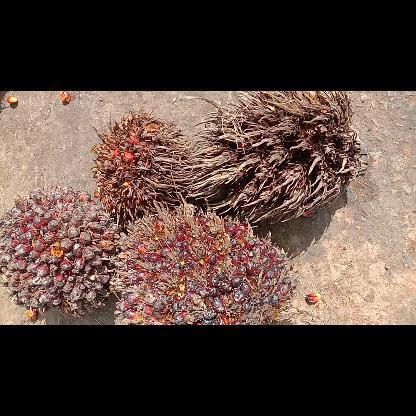Janjang kosong: (173, 92, 369, 226)
Kurang masak: (0, 187, 124, 317)
TBS masak: (114, 200, 298, 324)
Terlalu masak: (90, 109, 191, 219)
